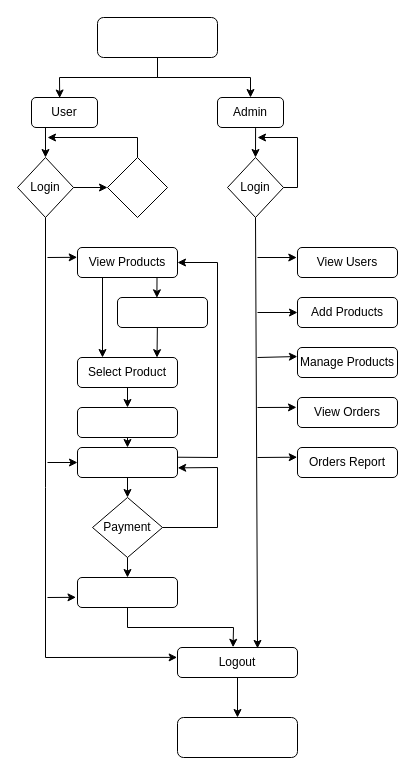
This 415x775 diagram has some shape labels left out. The centre of each missing label's shape, as x and y in pixels:
Add To Cart: the point at 127,422
Ordered Items: the point at 127,592
Register: the point at 137,187
Search Products: the point at 162,312
Start: the point at 157,37
Stop: the point at 237,737
View Cart: the point at 127,462
